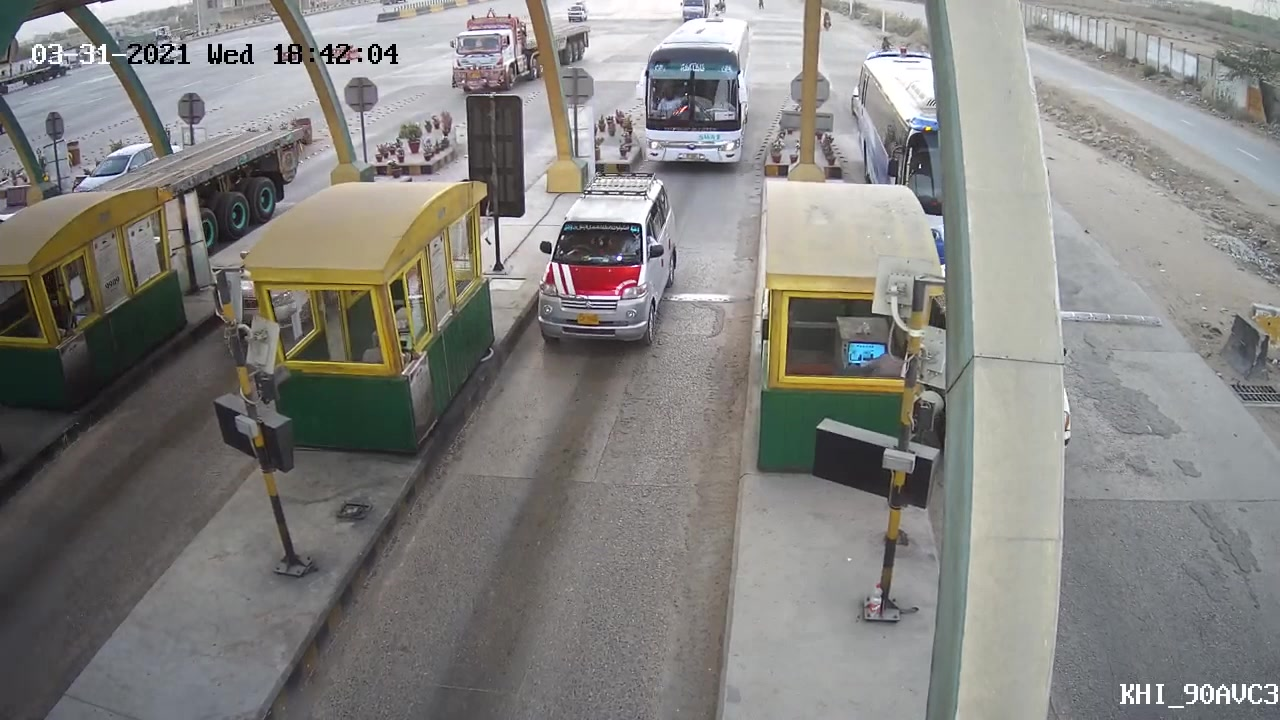F1: (532, 169, 683, 346)
F4: (635, 5, 758, 164)
